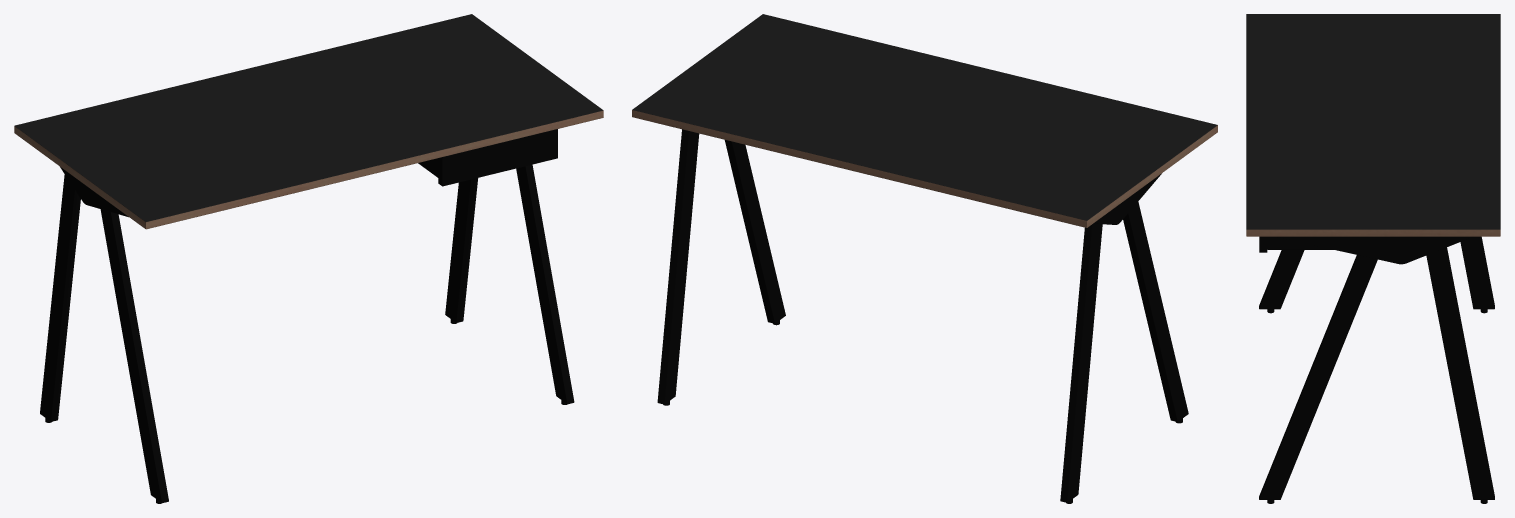
File: table_30_01.001.fbx
3 renders of one model, left to right at view 1: azimuth 30°, elevation 25°; view 2: azimuth 150°, elevation 25°; view 3: azimuth 270°, elevation 25°, orthographic. The views are drawn at different scales.
Visible parts, largest first — view 1: table_30_01.001; view 2: table_30_01.001; view 3: table_30_01.001.
Part boxes in pixels (bbox=[...]): table_30_01.001: bbox=[14, 14, 603, 503]; table_30_01.001: bbox=[632, 14, 1217, 503]; table_30_01.001: bbox=[1246, 14, 1500, 503].
Size of the model in its own units: 120 by 73.9 by 59.6.
1 material, 1 textured.
